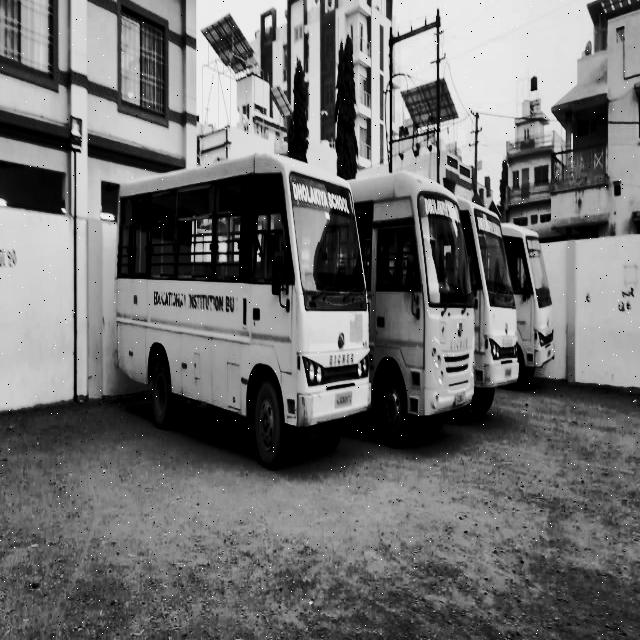Bus: (111, 151, 375, 488), (364, 167, 475, 446), (460, 186, 524, 420), (509, 220, 562, 400)
